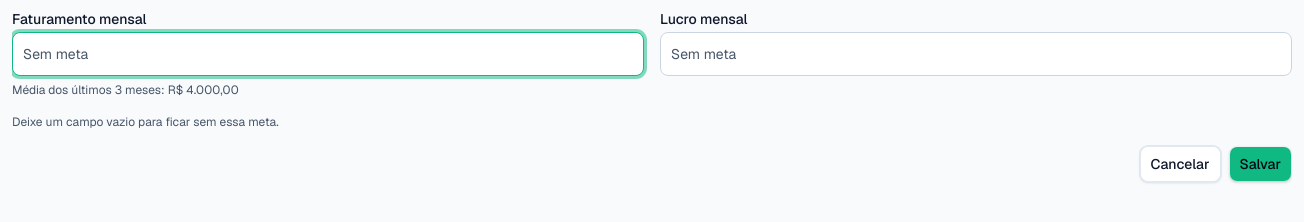
Test: IncomeGoalsForm › should clear a field error once the value is fixed and saved
Type "0" into the field labelled "Faturamento mensal" at (328, 54), box [12,32,644,76]
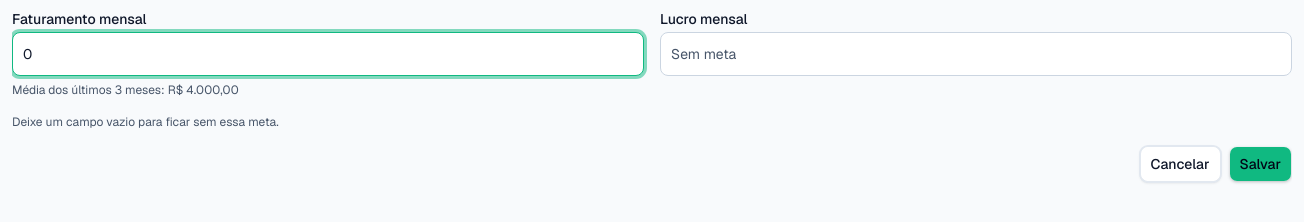
Click the button "Salvar" at (1260, 164), box [1228,146,1292,182]
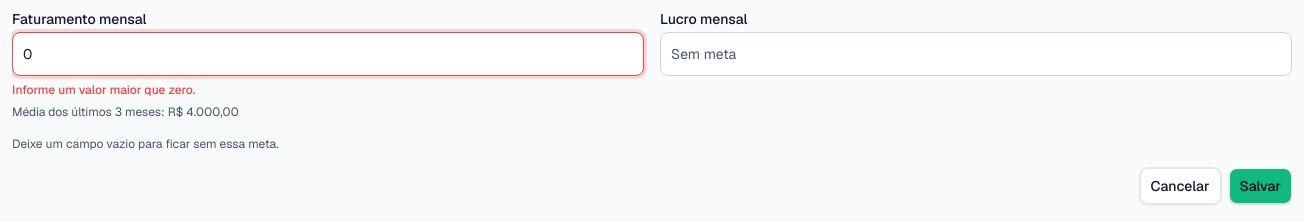
Replace the text in the field labelled "Faturamento mensal" with "10" at (328, 54), box [12,32,644,76]
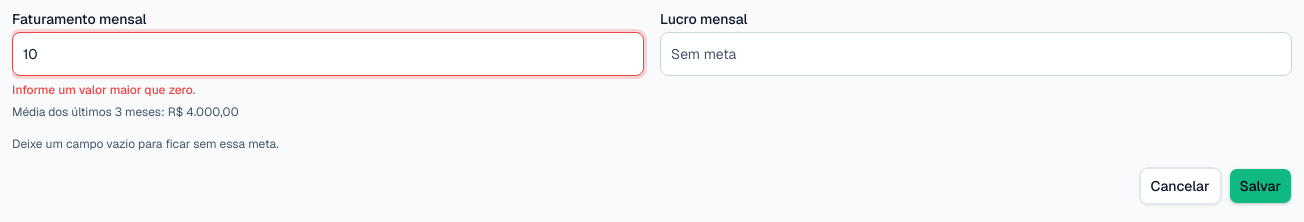
Click the button "Salvar" at (1260, 186), box [1228,168,1292,204]
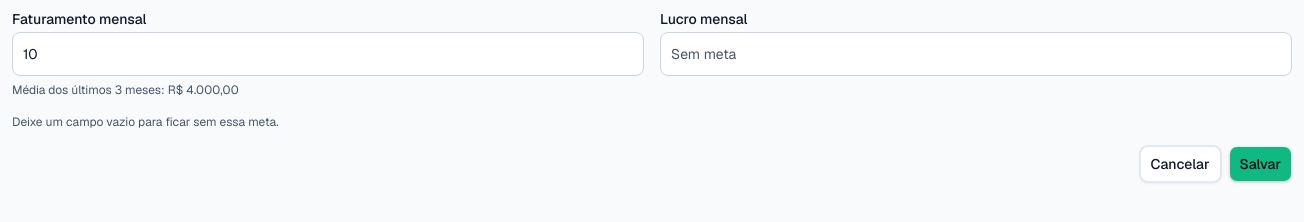
Check: the text "Informe um valor maior que zero." is gone
